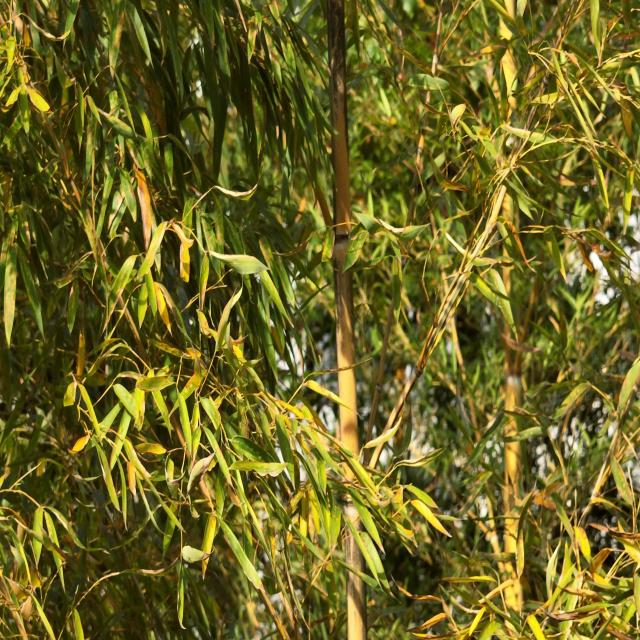Bamboo-shoots: (329, 0, 367, 640)
